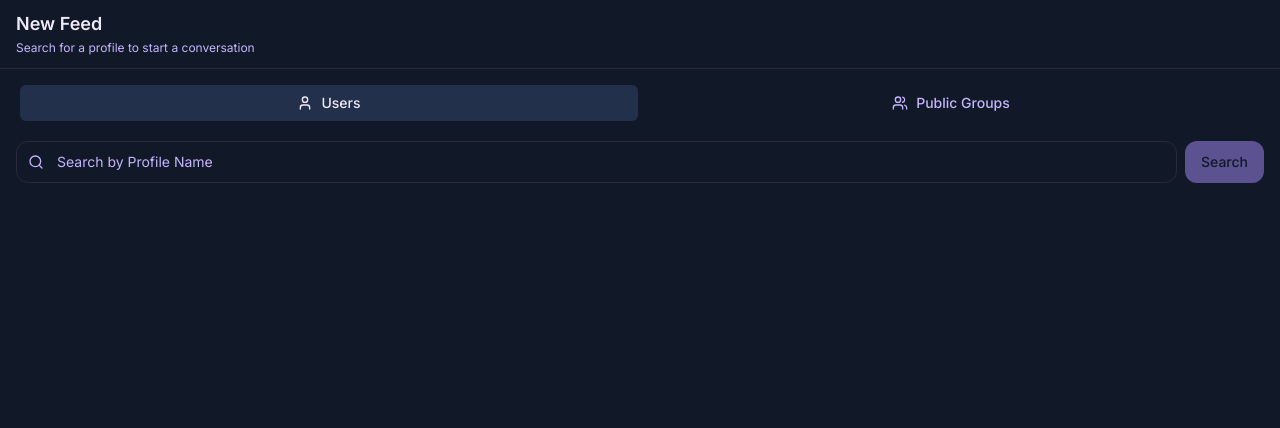
Scenario: NewChatView › Public Groups Tab Content › should show No groups found after search
This screenshot has width=1280, height=428.
// Switch to Public Groups
Click the tab "Public Groups" at (951, 103), box [642,85,1260,121]
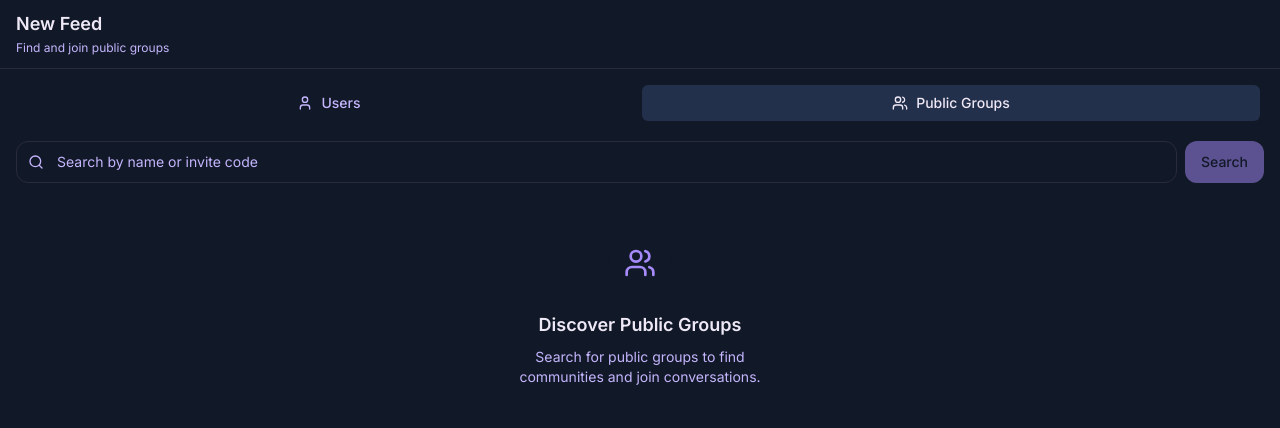
Type "nonexistent" into the field with placeholder "Search by name or invite code" at (596, 162), box [16,141,1177,183]
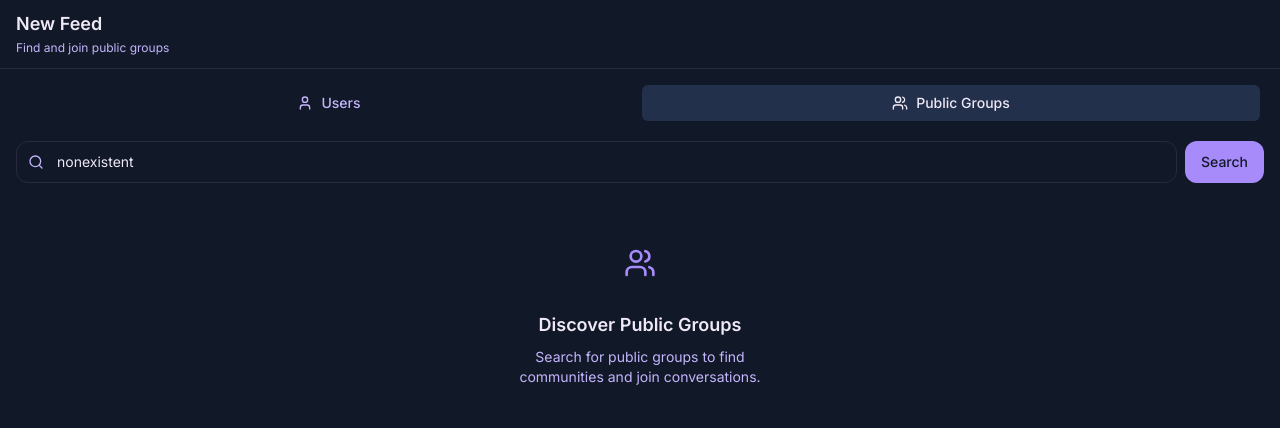
Click the button at (1224, 162), box [1185,141,1264,183]
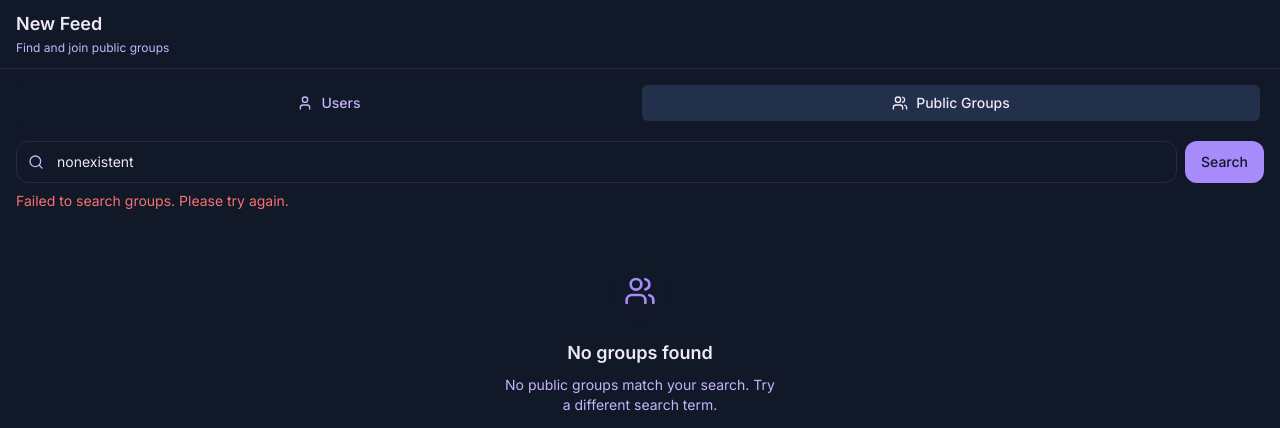
Check: the heading "No groups found" is shown, box [567,339,713,367]
